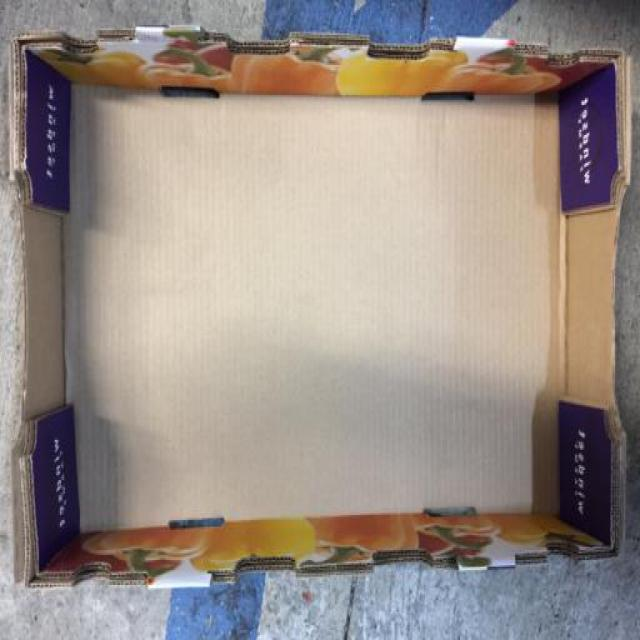cardboard: (11, 28, 631, 588)
